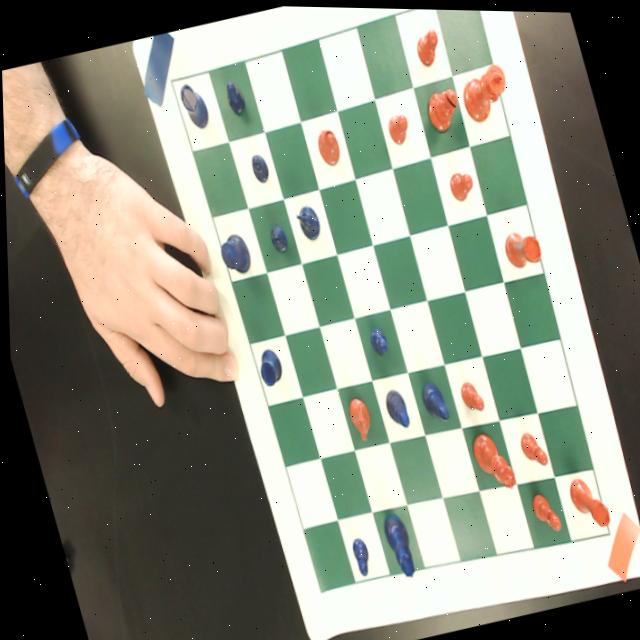B: (416, 376, 449, 422), (379, 385, 409, 429)
K: (215, 229, 253, 276)
N: (291, 197, 324, 245)
P: (346, 533, 372, 578), (222, 76, 249, 118), (247, 148, 270, 184), (266, 221, 289, 255), (365, 323, 389, 355)
Q: (377, 510, 415, 580)
R: (175, 79, 212, 132), (251, 344, 284, 388)
b: (419, 81, 465, 133), (312, 123, 344, 167)
k: (454, 58, 516, 123)
n: (342, 391, 375, 442)
p: (526, 485, 561, 534), (410, 24, 444, 68), (514, 426, 547, 468), (445, 166, 477, 202), (383, 108, 412, 145), (455, 376, 483, 412)
q: (465, 425, 515, 493)
r: (562, 469, 610, 532), (498, 222, 544, 269)
